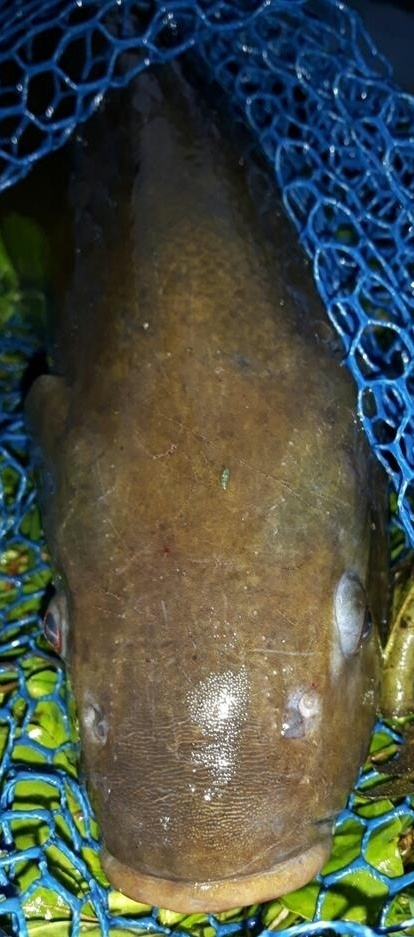Tinca tinca: (20, 1, 394, 917)
